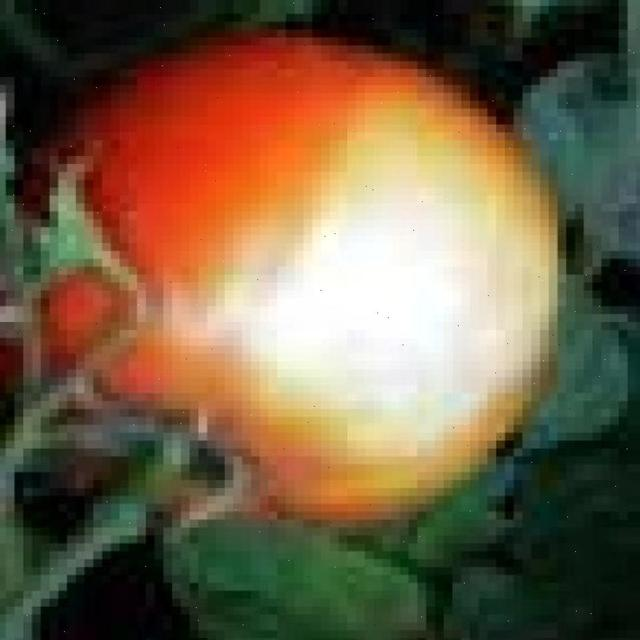Sunscald Fruit: (106, 72, 363, 326)
